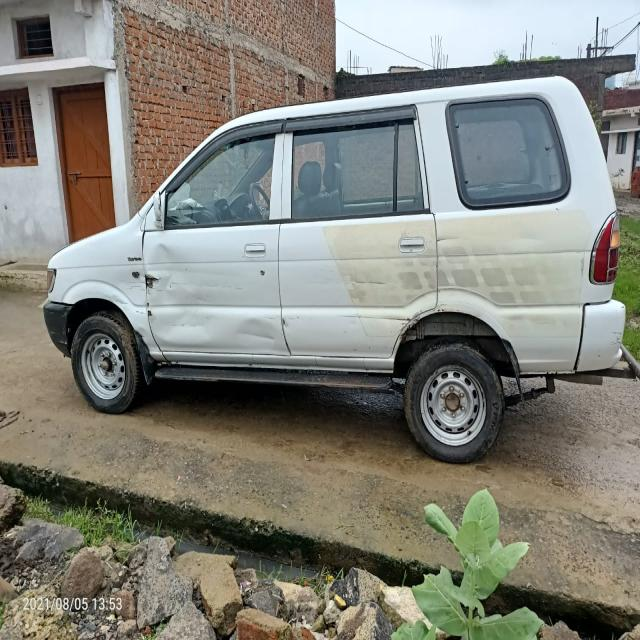damage: (145, 239, 277, 350), (106, 270, 147, 319), (575, 239, 592, 304), (393, 305, 428, 335), (609, 306, 626, 363), (351, 276, 394, 291), (435, 228, 467, 247), (281, 309, 309, 329), (435, 297, 448, 317)
